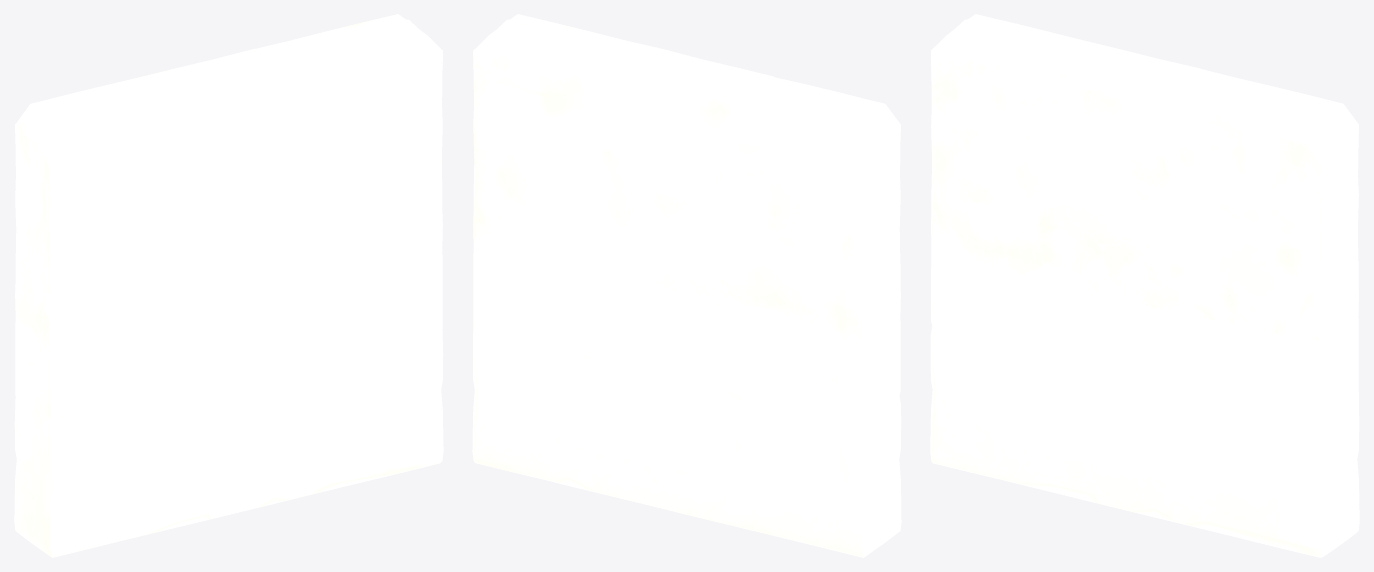
Rendered from saigon_wall.glb.
The picture shows the model from 3 angles, left to right: view 1: azimuth 30°, elevation 25°; view 2: azimuth 150°, elevation 25°; view 3: azimuth 330°, elevation 25°; orthographic projection.
Visible parts, largest first — view 1: tripo_node_787298db; view 2: tripo_node_787298db; view 3: tripo_node_787298db.
Boxes of the visible parts, x1,y1,x2,y2 form: tripo_node_787298db: [14, 14, 443, 557]; tripo_node_787298db: [472, 14, 901, 557]; tripo_node_787298db: [930, 14, 1359, 557].
Size of the model in its own units: 3.83 by 4 by 0.6192.
Materials: 1 (1 with a texture image).
